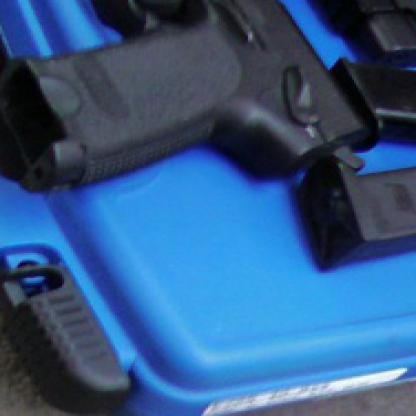gun: (0, 0, 364, 207), (0, 0, 414, 72)
